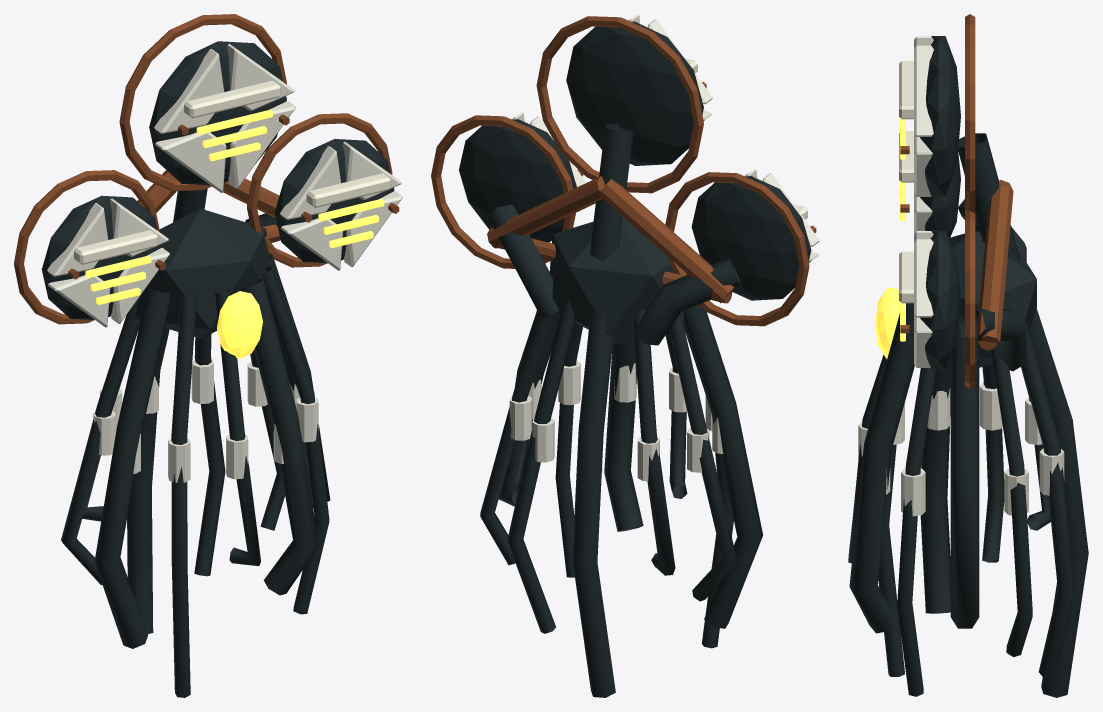
The model's file is enemy_beacon.glb.
3 views of the same model, side by side, from view 1: azimuth 30°, elevation 25°; view 2: azimuth 150°, elevation 25°; view 3: azimuth 270°, elevation 25° (orthographic). The views are drawn at different scales.
Visible parts, largest first — view 1: body.002_mesh, head.002_mesh, mask_left_mesh, mask_right_mesh, core.001_mesh; view 2: body.002_mesh, head.002_mesh, mask_left_mesh, mask_right_mesh; view 3: body.002_mesh, head.002_mesh, mask_right_mesh, mask_left_mesh, core.001_mesh.
Boxes of the visible parts, x1,y1,x2,y2 form: body.002_mesh: [61, 170, 330, 697]; head.002_mesh: [119, 14, 295, 222]; mask_left_mesh: [14, 170, 169, 327]; mask_right_mesh: [245, 113, 402, 270]; core.001_mesh: [217, 291, 262, 358]; body.002_mesh: [480, 176, 762, 697]; head.002_mesh: [536, 14, 712, 326]; mask_left_mesh: [634, 169, 819, 345]; mask_right_mesh: [431, 112, 586, 318]; body.002_mesh: [848, 180, 1088, 697]; head.002_mesh: [899, 14, 1019, 262]; mask_right_mesh: [899, 211, 1027, 388]; mask_left_mesh: [899, 131, 1026, 261]; core.001_mesh: [875, 287, 899, 358].
Bounding box in the file's own units: 1.4 × 2.26 × 0.7248.
